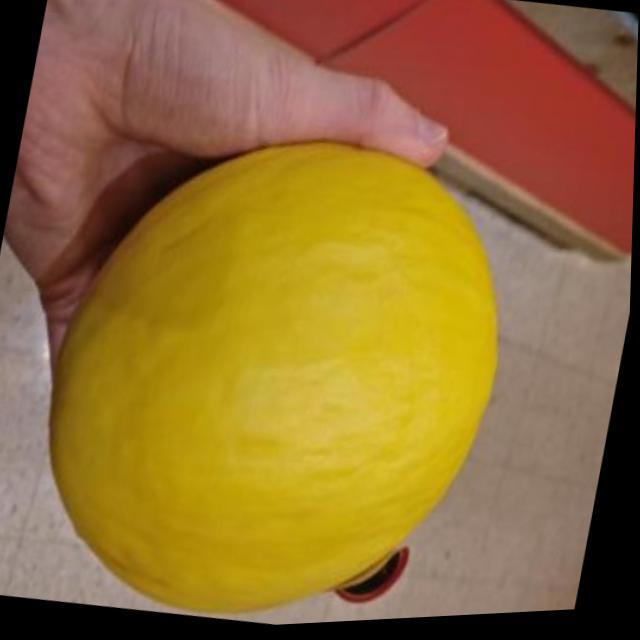Honeydew: (21, 101, 534, 639)
